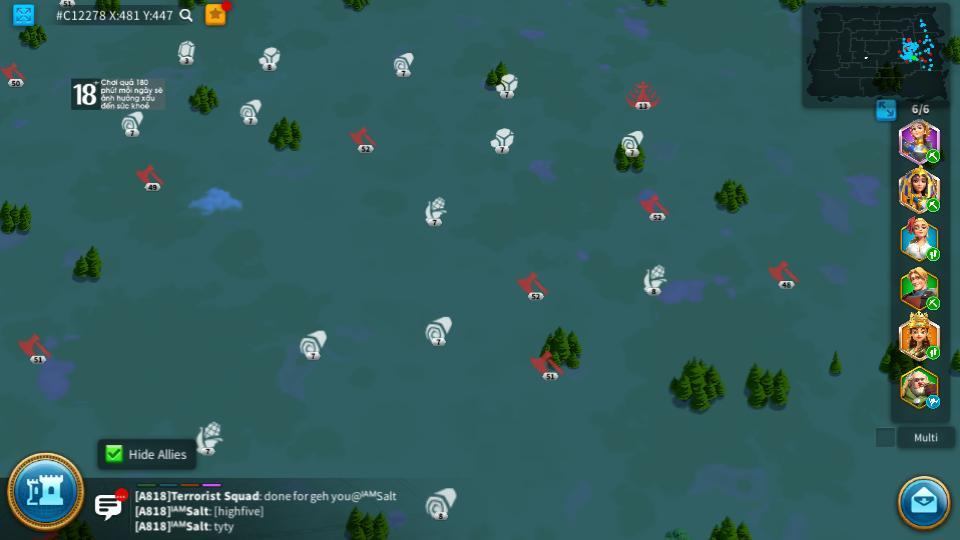gem-z-out: (176, 40, 195, 63)
march_farming: (925, 248, 941, 261)
march_idle: (925, 396, 942, 408)
march_marching: (925, 197, 941, 212), (925, 347, 942, 359), (925, 150, 942, 162), (925, 297, 942, 308)
